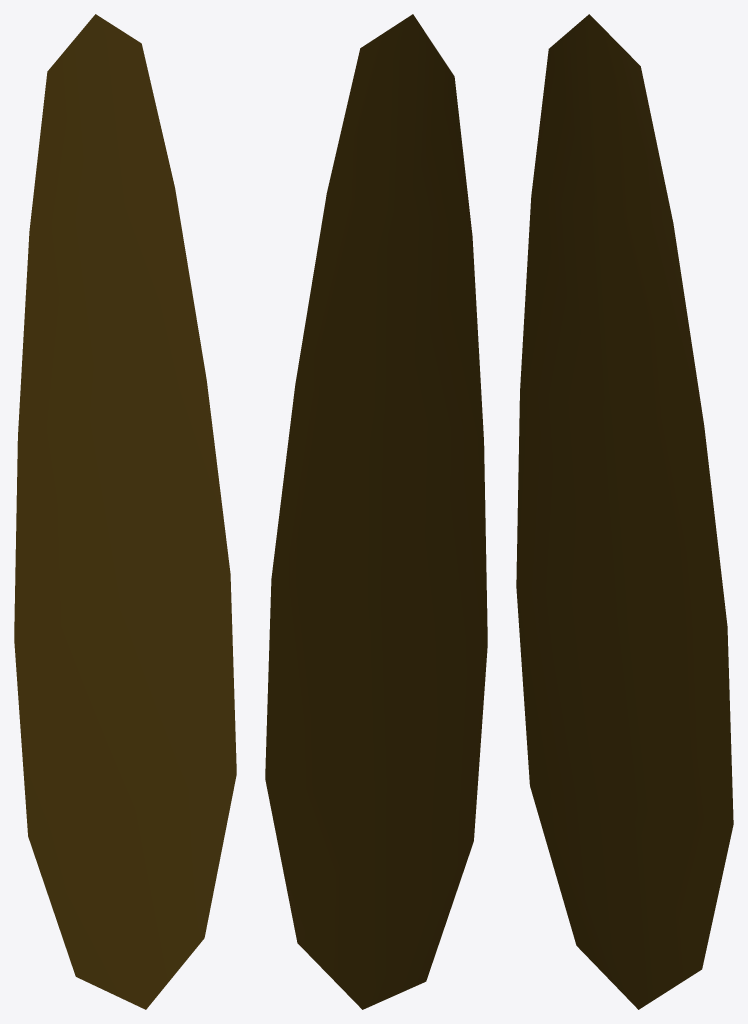
Rendered from canary_feather_flight_primary_006.obj.
The picture shows the model from 3 angles, left to right: view 1: azimuth 30°, elevation 25°; view 2: azimuth 150°, elevation 25°; view 3: azimuth 330°, elevation 25°; orthographic projection. The views are drawn at different scales.
Parts seen in each view (by area): view 1: feather_flight_primary_006; view 2: feather_flight_primary_006; view 3: feather_flight_primary_006.
Part boxes in pixels (<box>): feather_flight_primary_006: <box>14,14,236,1009</box>; feather_flight_primary_006: <box>265,14,487,1009</box>; feather_flight_primary_006: <box>516,14,733,1009</box>.
Size of the model in its own units: 0.00602 by 0.0261 by 0.000155.
